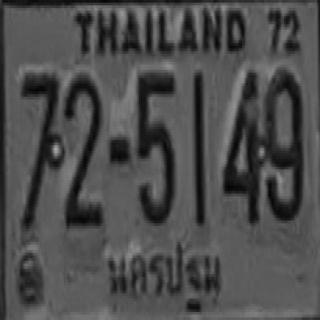N01: (191, 71, 204, 225)
N02: (63, 73, 101, 226)
N04: (221, 69, 258, 222)
N05: (136, 70, 173, 223)
N07: (19, 70, 58, 229)
N09: (262, 68, 301, 219)
P28: (103, 241, 223, 316)
